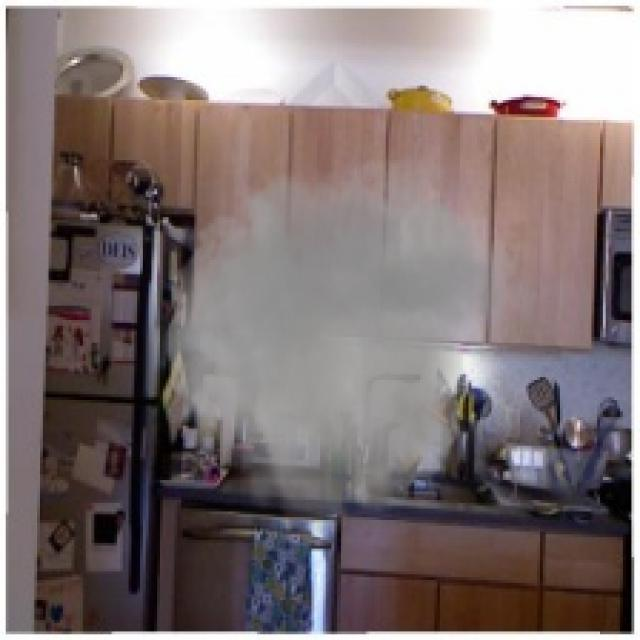Smoke: (157, 140, 537, 560)
